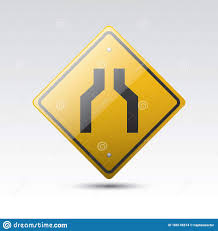narrow-road: (53, 51, 161, 152)
